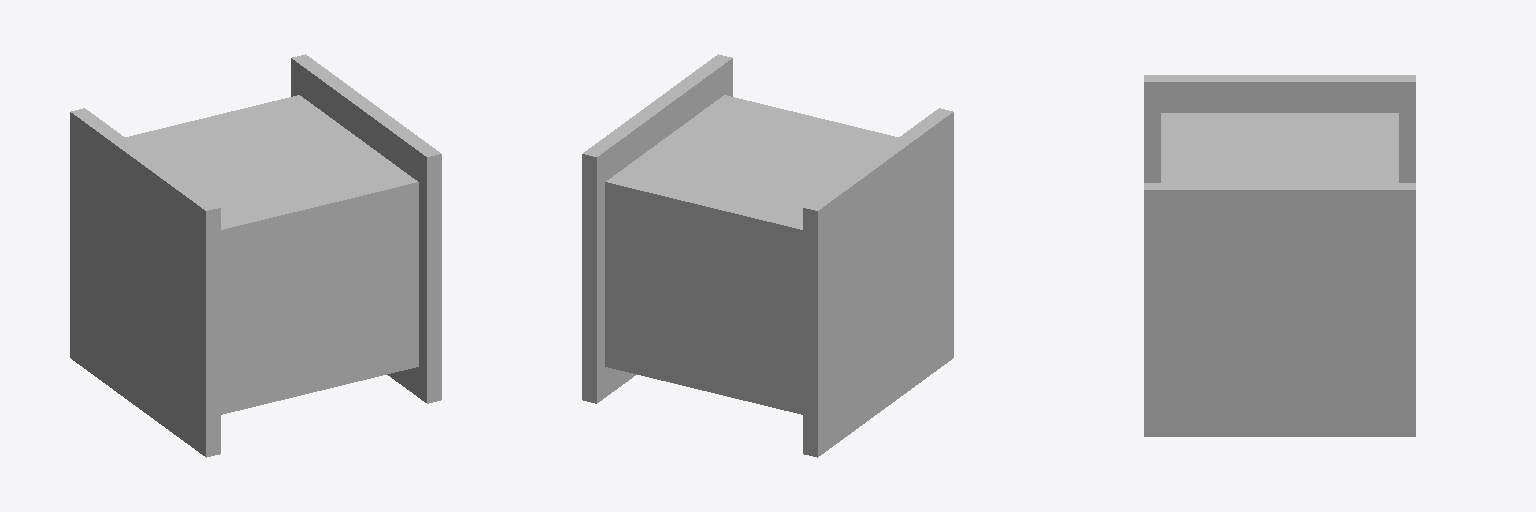
Rendered from test_block.obj.
3 views of the same model, side by side, from view 1: azimuth 30°, elevation 25°; view 2: azimuth 150°, elevation 25°; view 3: azimuth 270°, elevation 25° (orthographic).
Visible parts, largest first — view 1: cube; view 2: cube; view 3: cube.
Part boxes in pixels (bbox=[...]): cube: bbox=[70, 54, 441, 457]; cube: bbox=[582, 54, 953, 457]; cube: bbox=[1144, 75, 1415, 436].
Bounding box in the file's own units: 1 × 1 × 1.